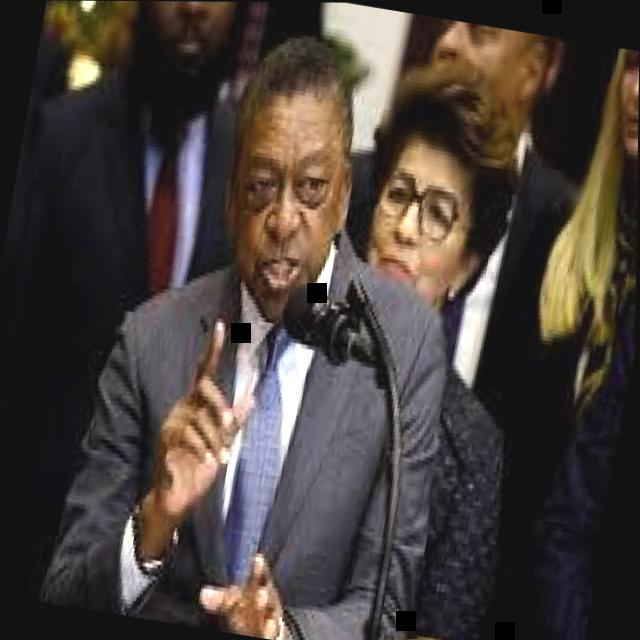NO-Mask: (210, 114, 355, 332), (362, 157, 477, 313), (130, 1, 242, 105), (428, 17, 533, 95), (608, 48, 639, 162)
